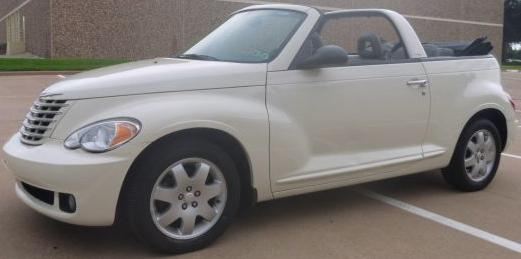front_view: (9, 83, 156, 220)
headlight: (67, 111, 144, 152)
side_glass: (266, 9, 439, 71)
